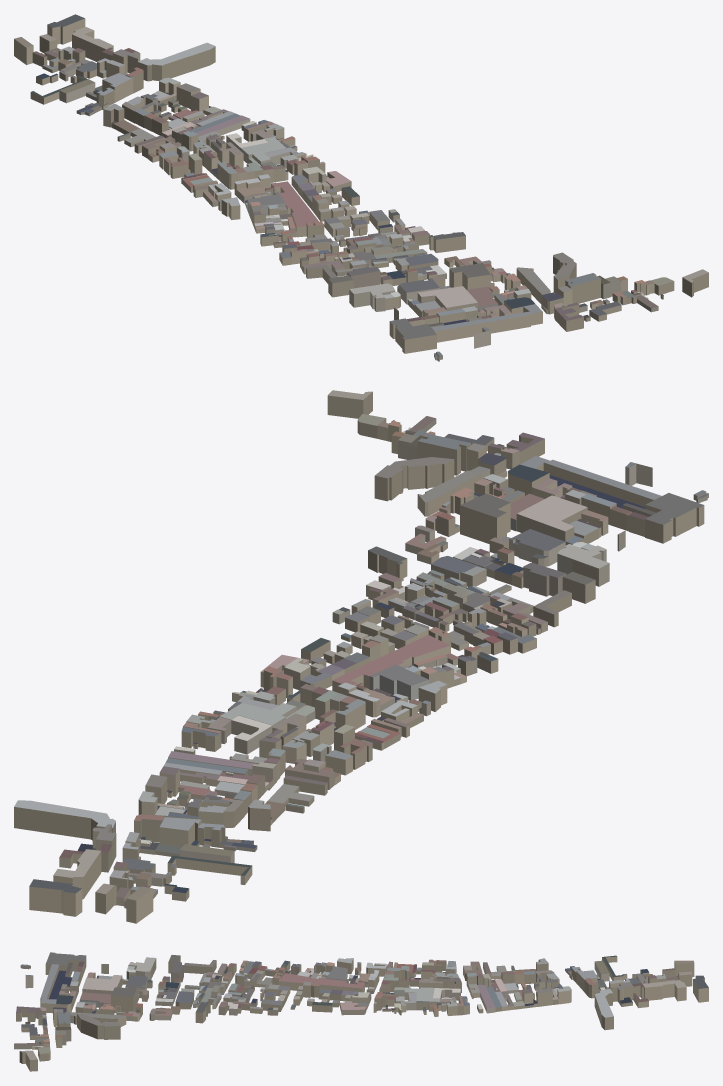
The picture shows the model from 3 angles, top to bottom: view 1: azimuth 30°, elevation 25°; view 2: azimuth 150°, elevation 25°; view 3: azimuth 270°, elevation 25°; orthographic projection. The views are drawn at different scales.
Visible parts, largest first — view 1: tuile; view 2: tuile; view 3: tuile.
Part boxes in pixels (x1,y1,x2,y2): tuile: [14, 14, 708, 361]; tuile: [14, 390, 708, 923]; tuile: [14, 952, 708, 1071].
Bounding box in the file's own units: 411 × 39.4 × 1025.
